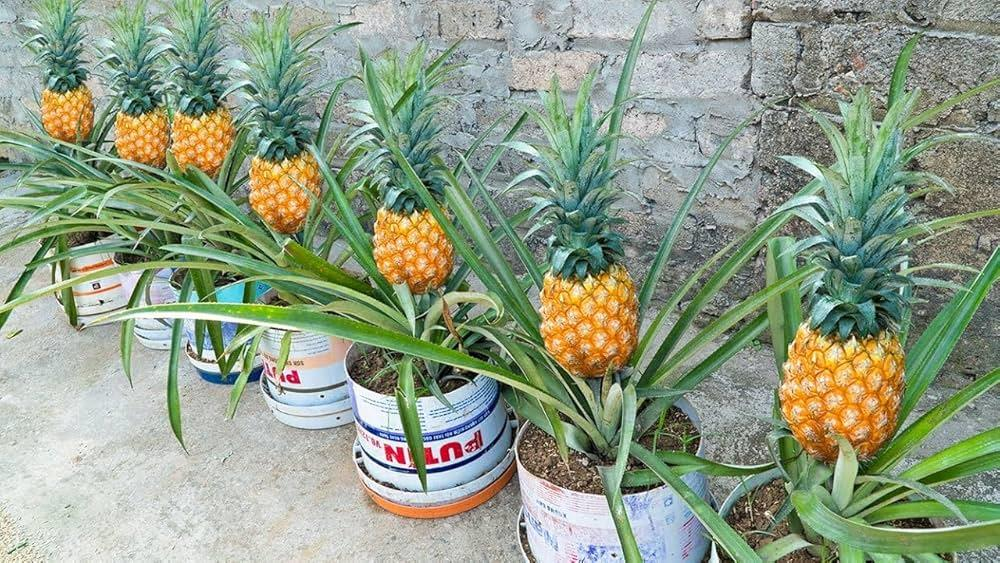pineapple: (762, 78, 934, 475), (497, 75, 664, 383), (334, 39, 479, 298), (233, 9, 330, 239), (169, 5, 245, 188), (96, 0, 171, 184), (30, 5, 95, 143)
